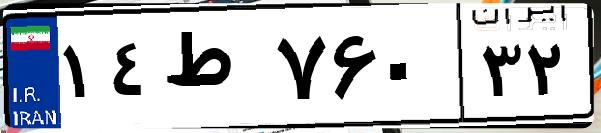0: (385, 28, 445, 110)
1: (57, 26, 110, 100)
2: (525, 38, 570, 115)
3: (475, 38, 525, 113)
4: (110, 28, 158, 98)
6: (330, 28, 385, 110)
7: (270, 28, 330, 110)
ط: (158, 20, 270, 120)
